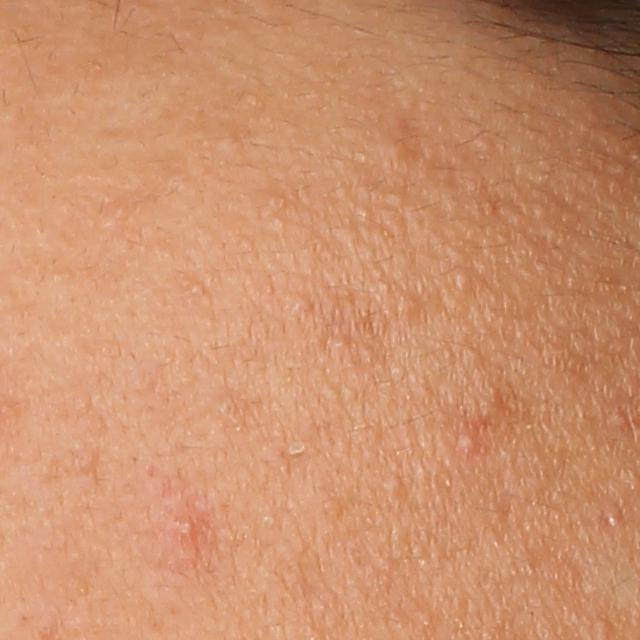comedo: (478, 380, 507, 418), (377, 475, 407, 499), (385, 136, 411, 159), (393, 292, 421, 313), (603, 502, 624, 526), (289, 292, 311, 314), (451, 269, 474, 289), (473, 135, 494, 149)
papule: (169, 507, 207, 545)
